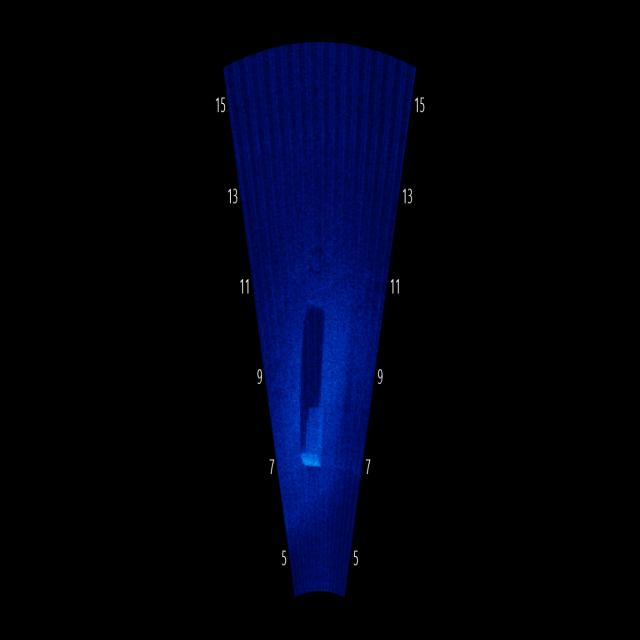square: (294, 377, 329, 479)
